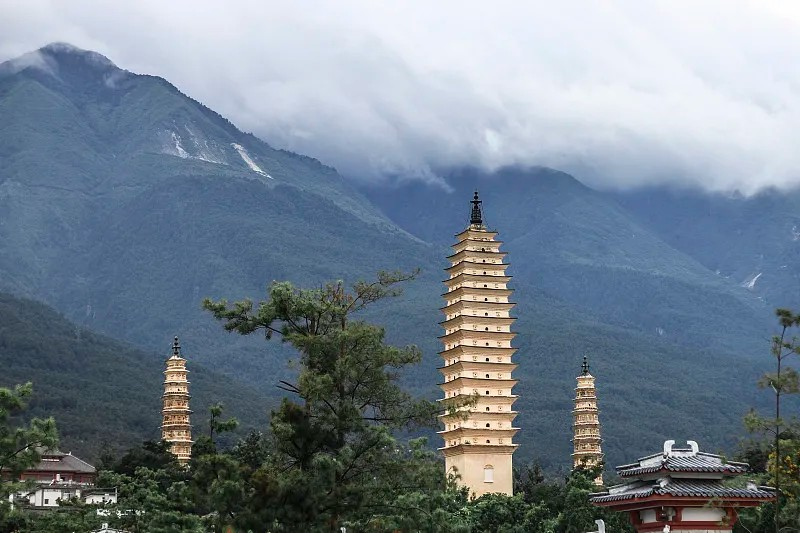ThreePagoda: (437, 189, 522, 498)
